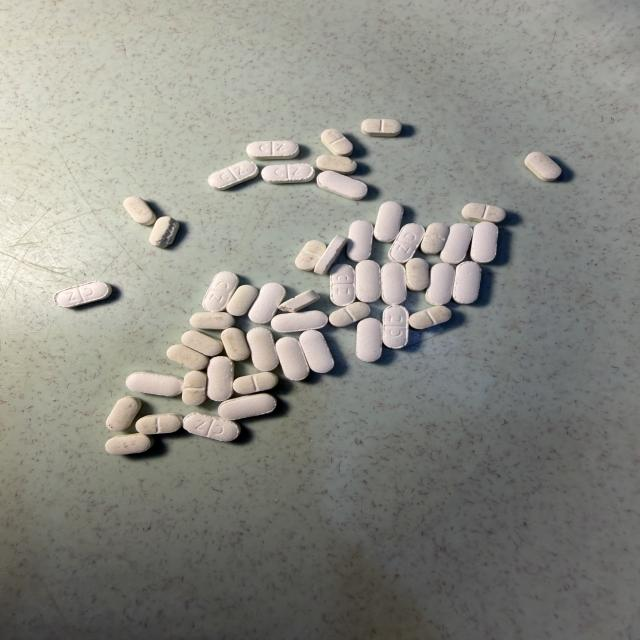pill: (183, 413, 239, 441), (218, 394, 276, 420), (300, 330, 334, 373), (54, 282, 112, 307), (208, 161, 258, 190), (317, 171, 367, 200), (388, 223, 424, 263), (249, 283, 285, 323), (276, 337, 309, 380), (203, 272, 239, 311), (126, 372, 182, 396), (247, 327, 278, 370), (440, 223, 472, 264), (314, 235, 347, 274), (271, 311, 327, 333), (426, 263, 455, 305), (453, 261, 481, 304), (106, 397, 141, 431), (207, 357, 234, 401), (374, 202, 403, 242), (470, 222, 498, 263), (356, 318, 382, 361), (347, 220, 373, 262), (355, 260, 381, 302), (383, 305, 408, 348), (330, 264, 355, 306), (525, 152, 561, 181), (182, 331, 222, 357), (261, 164, 315, 183), (329, 302, 370, 327), (381, 263, 406, 304), (167, 345, 208, 370), (226, 285, 258, 316), (234, 372, 278, 394), (409, 306, 451, 329), (123, 196, 156, 225), (221, 328, 250, 361), (246, 141, 299, 159), (106, 434, 153, 454), (295, 240, 326, 270), (149, 217, 179, 248), (136, 414, 182, 434), (279, 290, 319, 312), (421, 223, 449, 254), (321, 129, 353, 156), (462, 203, 505, 222), (182, 371, 206, 405), (316, 155, 357, 174), (190, 312, 235, 329), (405, 258, 428, 291), (361, 119, 401, 136)
